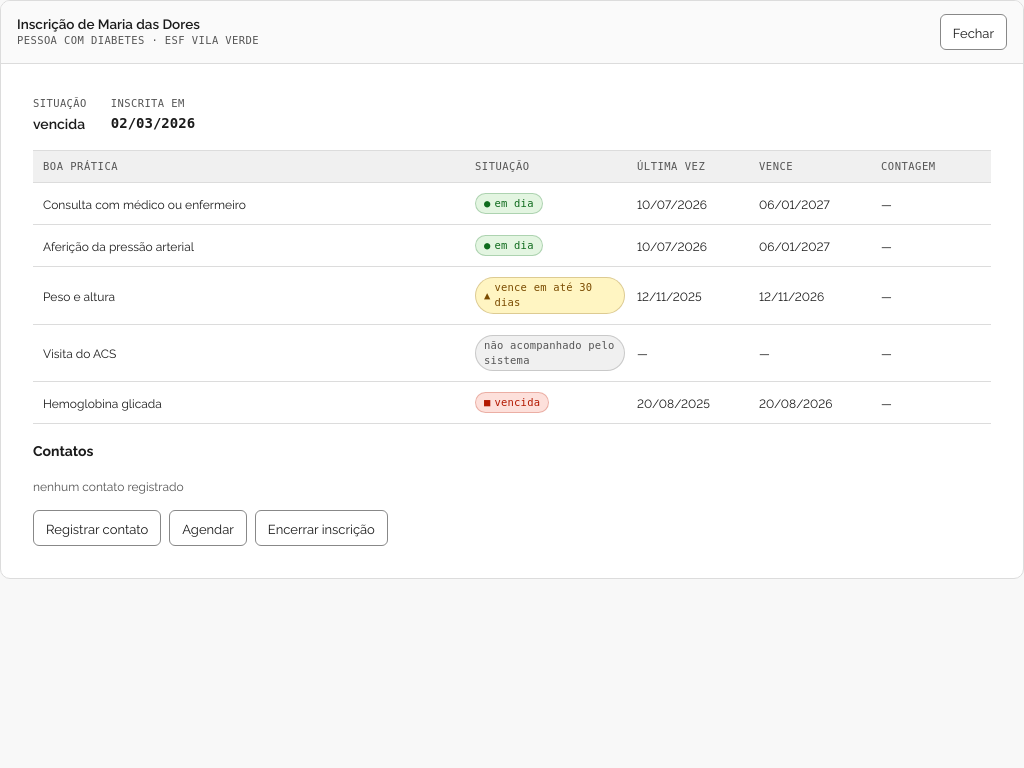
Test: Agendar (atalho para o módulo 17) › sem can_book não abre o BookPanel: o pedido segue para a recepção da unidade
Click the button "Agendar".
click(208, 528)  # box [169, 510, 247, 546]
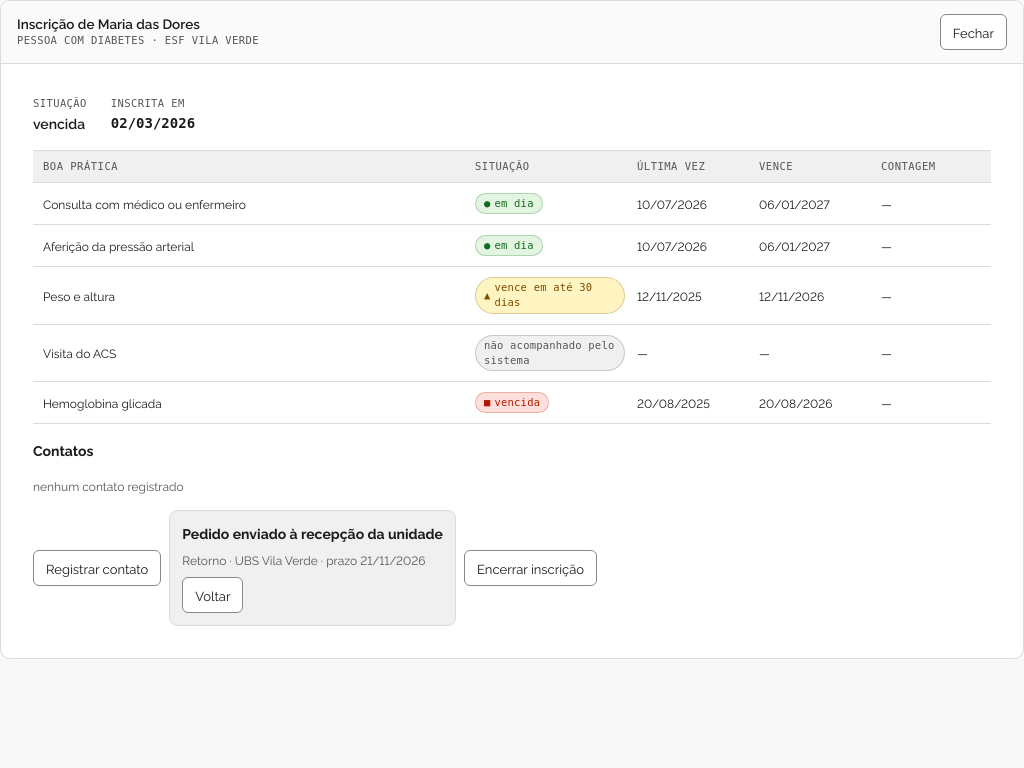
Check: the text "Pedido enviado à recepção da unidade" is shown, box [182, 523, 443, 543]
Check: the text "Retorno · UBS Vila Verde · prazo 21/11/2026" is shown, box [182, 551, 443, 569]
Click the button "Voltar".
click(213, 595)  # box [182, 577, 244, 613]
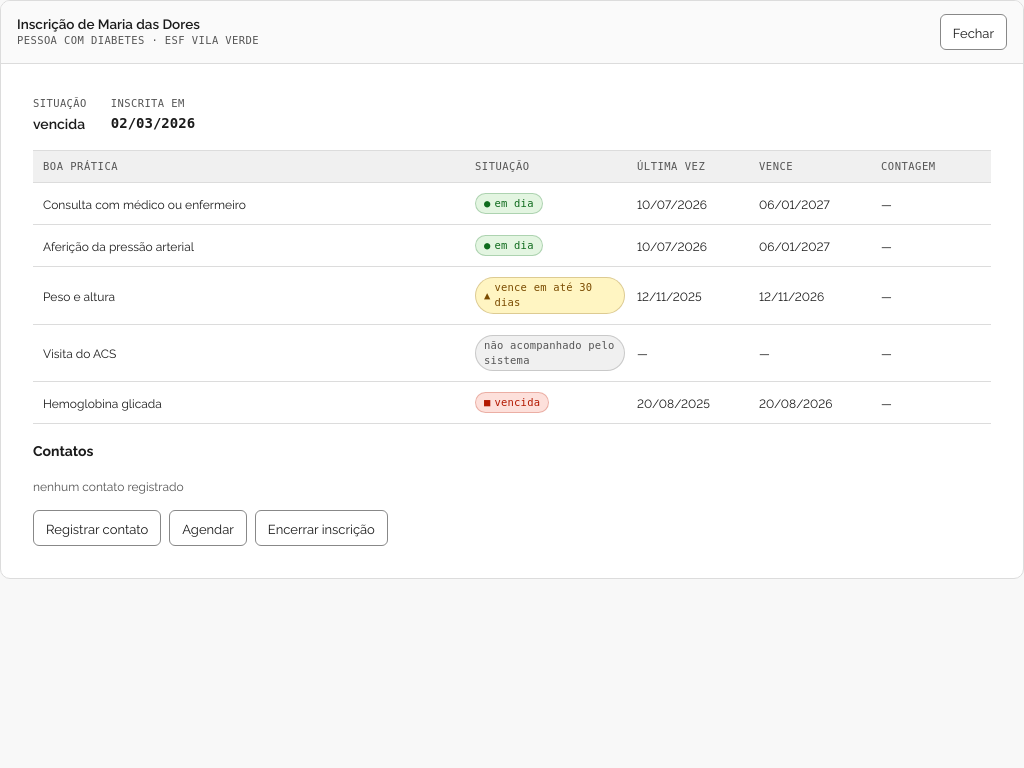
Check: the button "Agendar" is shown, box [169, 510, 247, 546]
